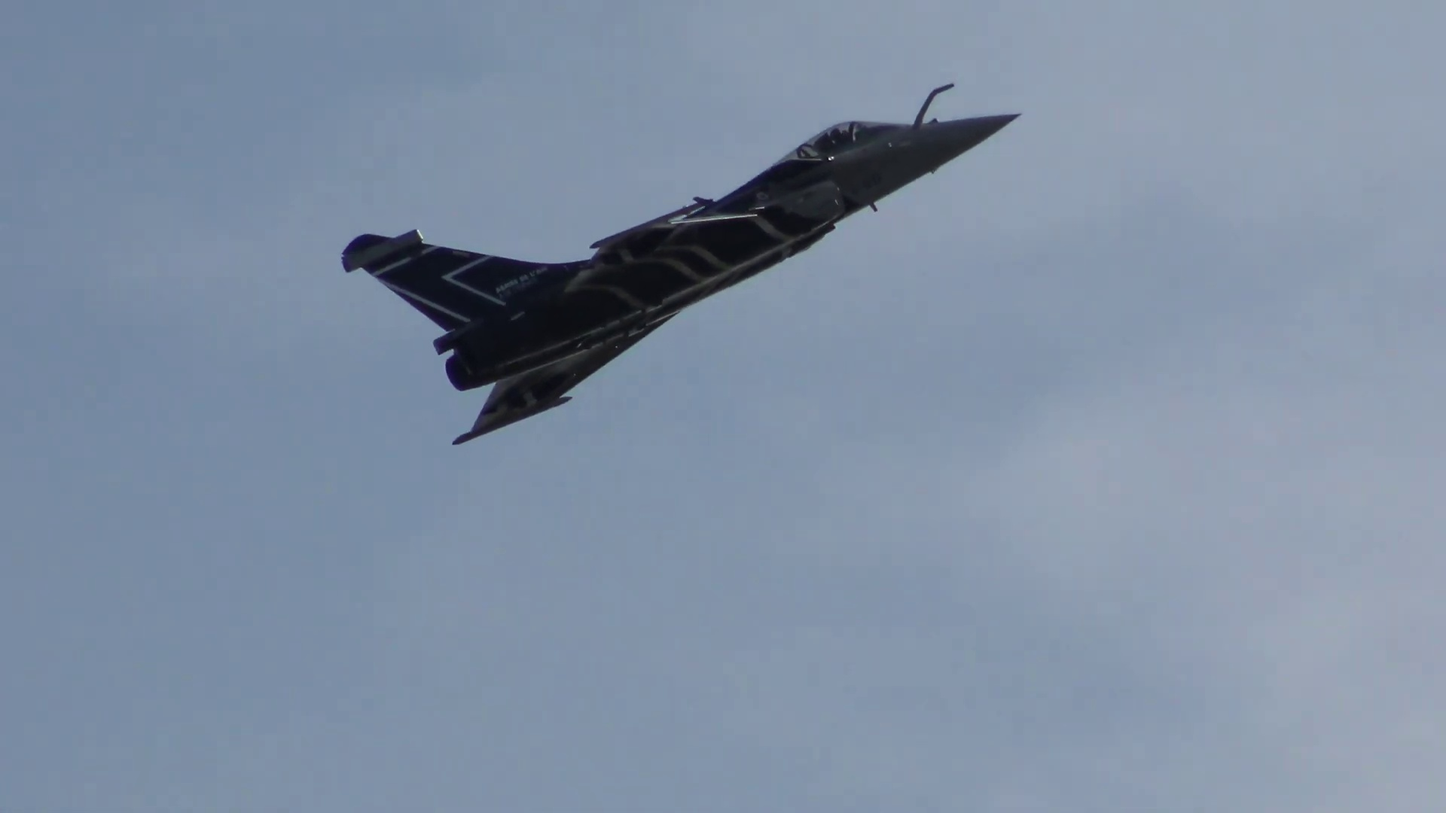Rafale: (345, 87, 1023, 446)
